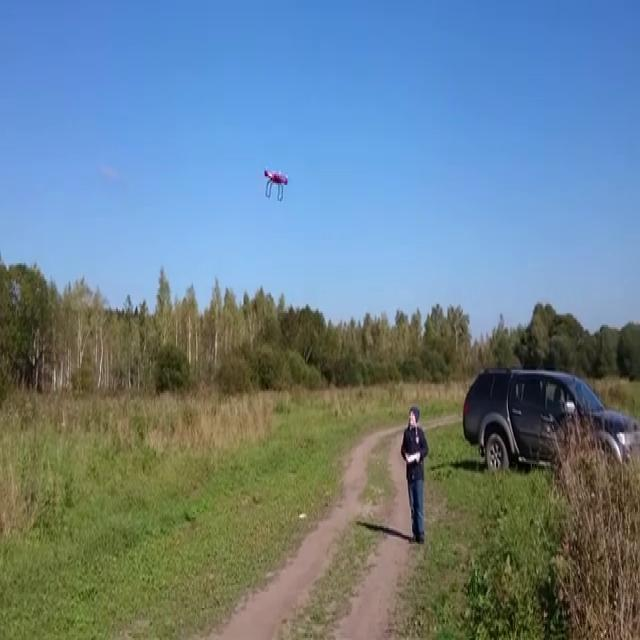Drons: (261, 166, 290, 204)
